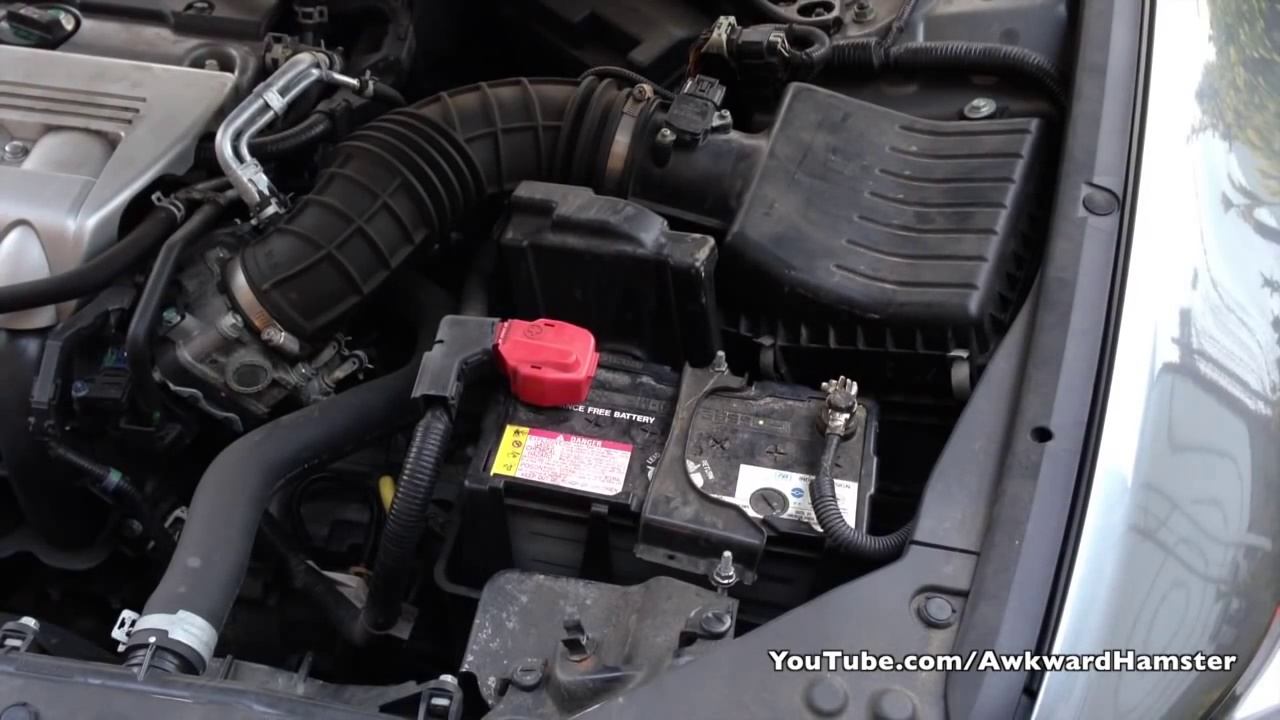battery: (465, 331, 872, 556)
neg_connected: (793, 372, 873, 469)
pos_connected: (468, 337, 615, 414)
